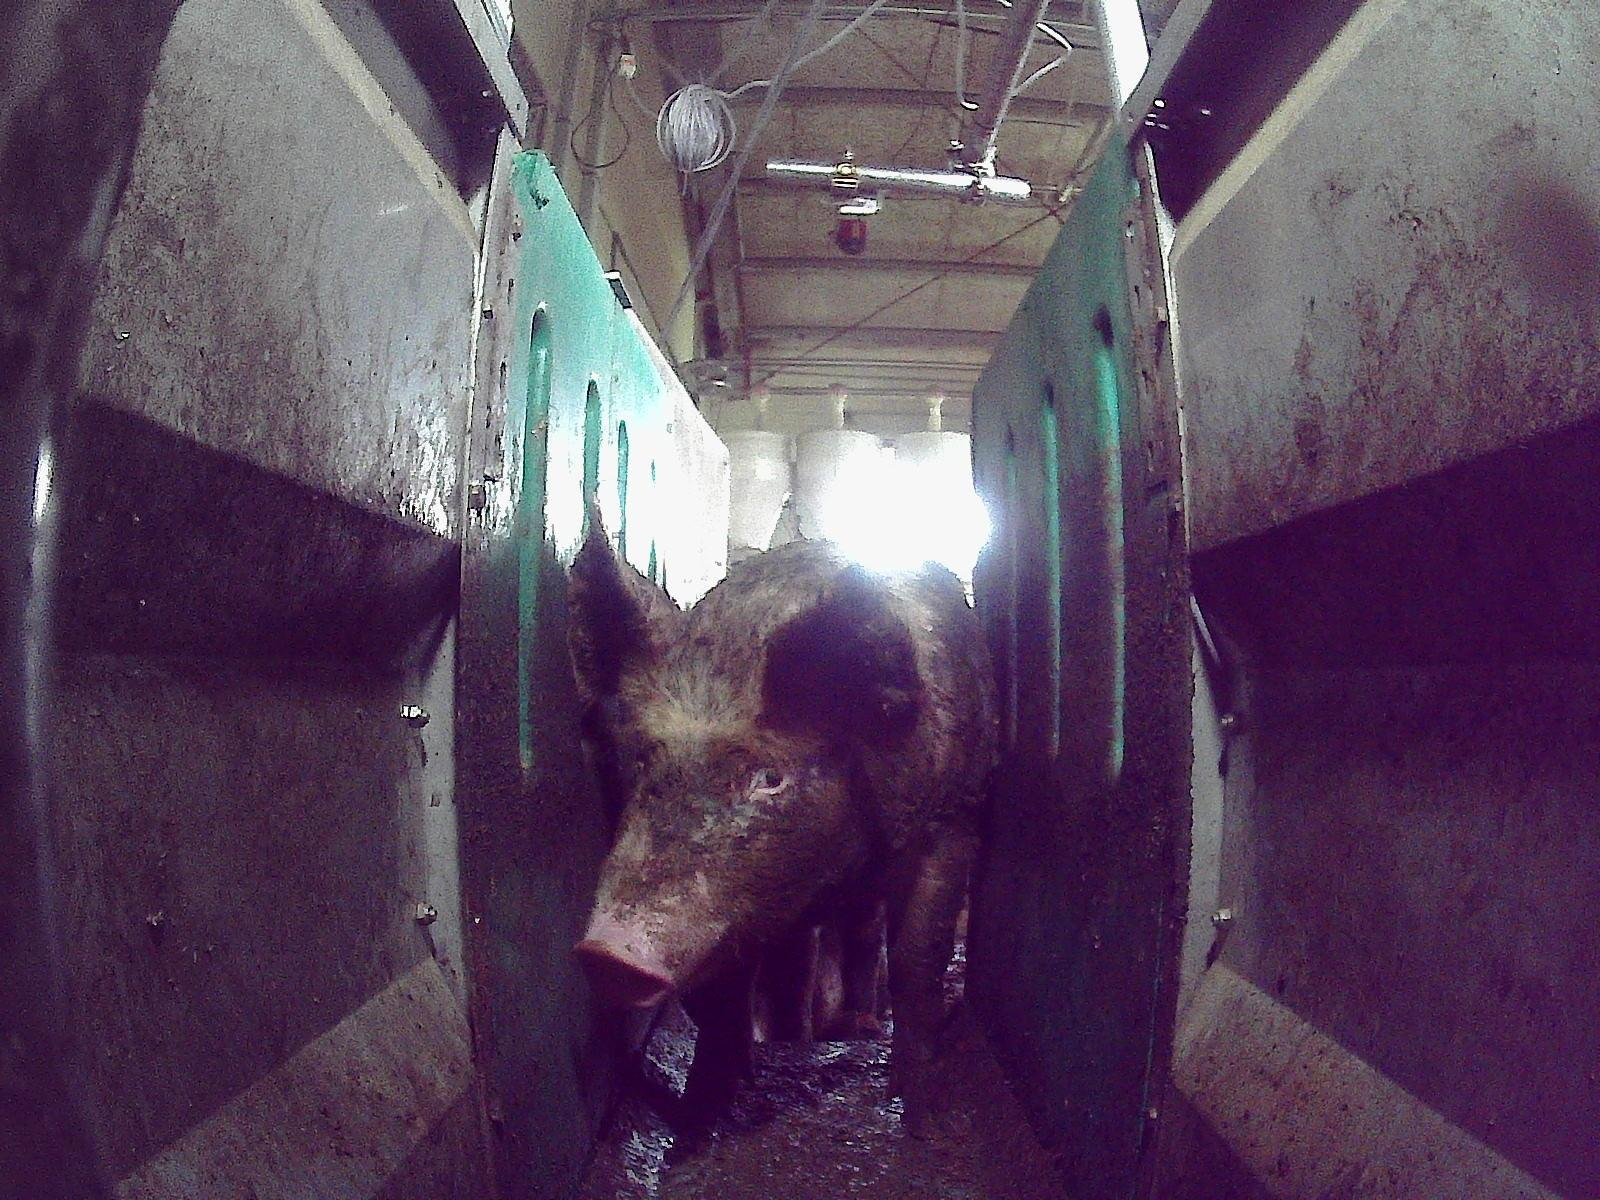Face: (575, 660, 826, 1009)
